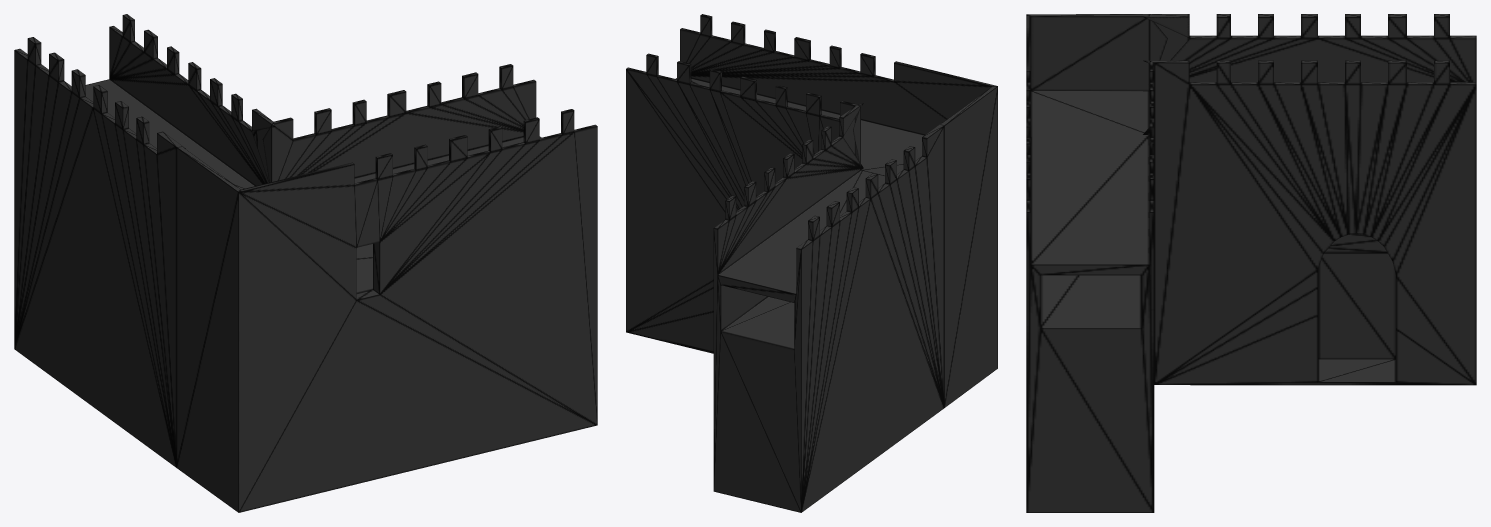
The model's file is WallCorner.fbx.
3 views of the same model, side by side, from view 1: azimuth 30°, elevation 25°; view 2: azimuth 150°, elevation 25°; view 3: azimuth 270°, elevation 25° (orthographic). The views are drawn at different scales.
Parts seen in each view (by area): view 1: WallCorner; view 2: WallCorner; view 3: WallCorner.
Part boxes in pixels (left/top/right/bottom): WallCorner: left=14, top=14, right=597, bottom=512; WallCorner: left=626, top=14, right=997, bottom=512; WallCorner: left=1026, top=14, right=1476, bottom=512.
Bounding box in the file's own units: 1402 × 1196 × 1513.
